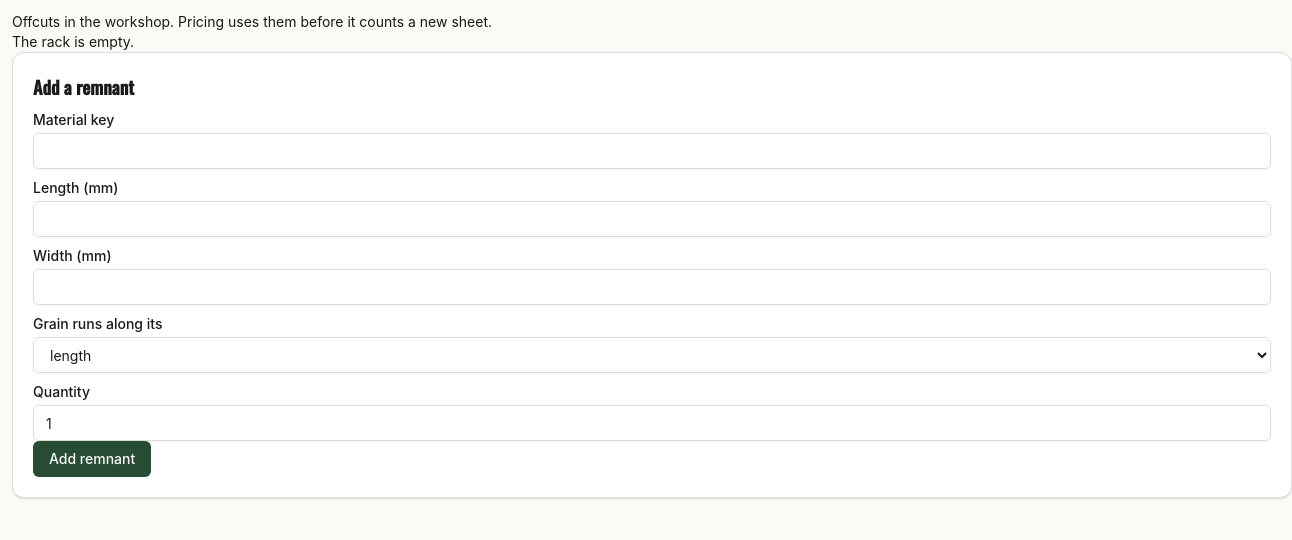
Test: a refused remnant names the field
Type "nope" into the field labelled "Material key". click: (652, 151)
box: left=33, top=133, right=1271, bottom=169
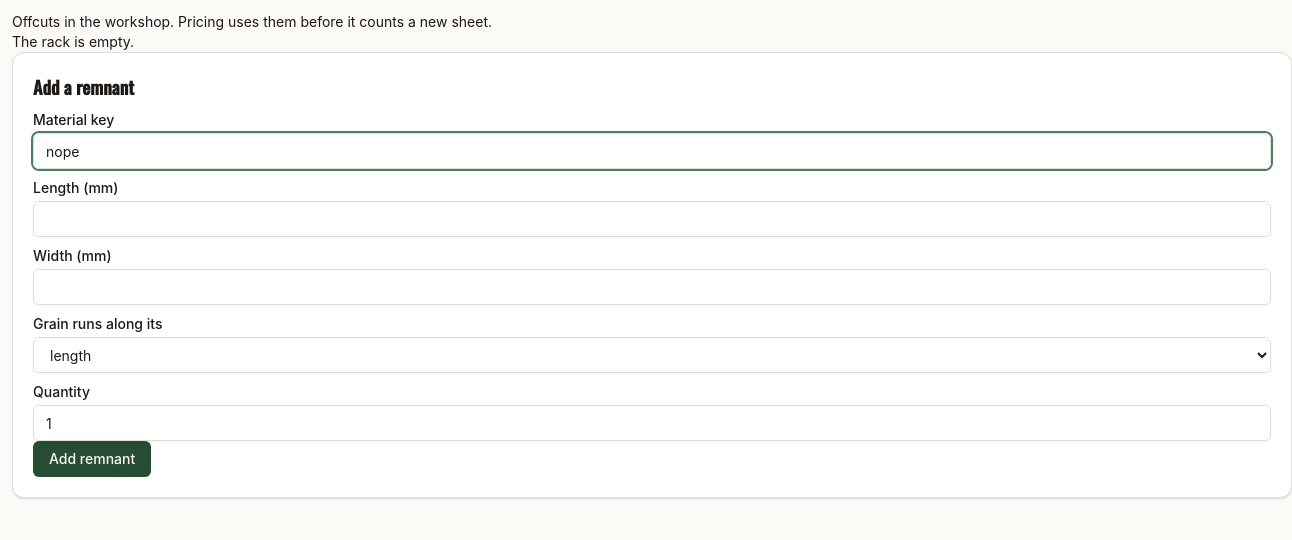
Click the button "Add remnant". click: (92, 459)
box: left=33, top=441, right=151, bottom=477
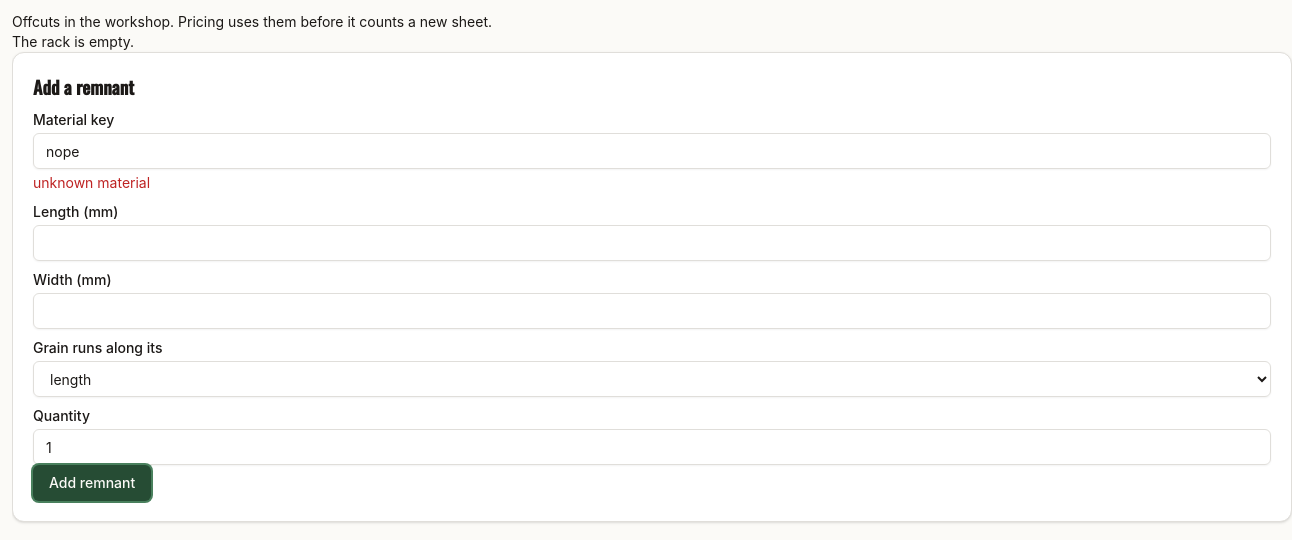
Now the text "unknown material" is shown, box left=33, top=174, right=150, bottom=191
